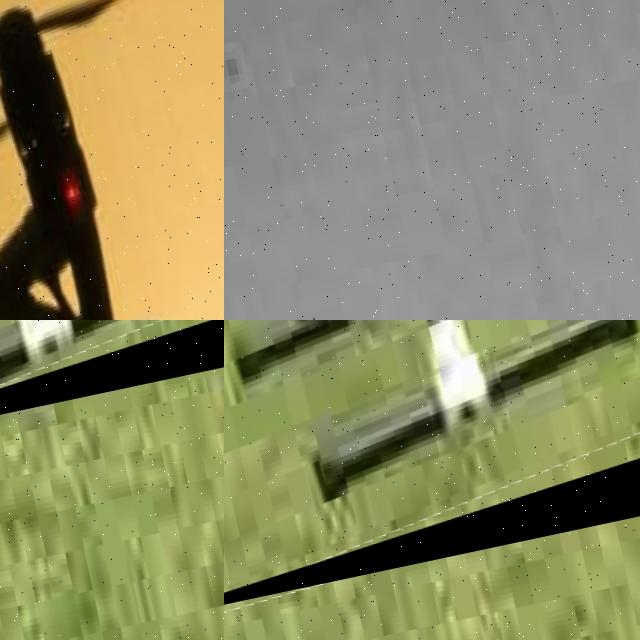drone: (224, 320, 640, 623), (0, 0, 224, 320), (0, 320, 224, 461)
